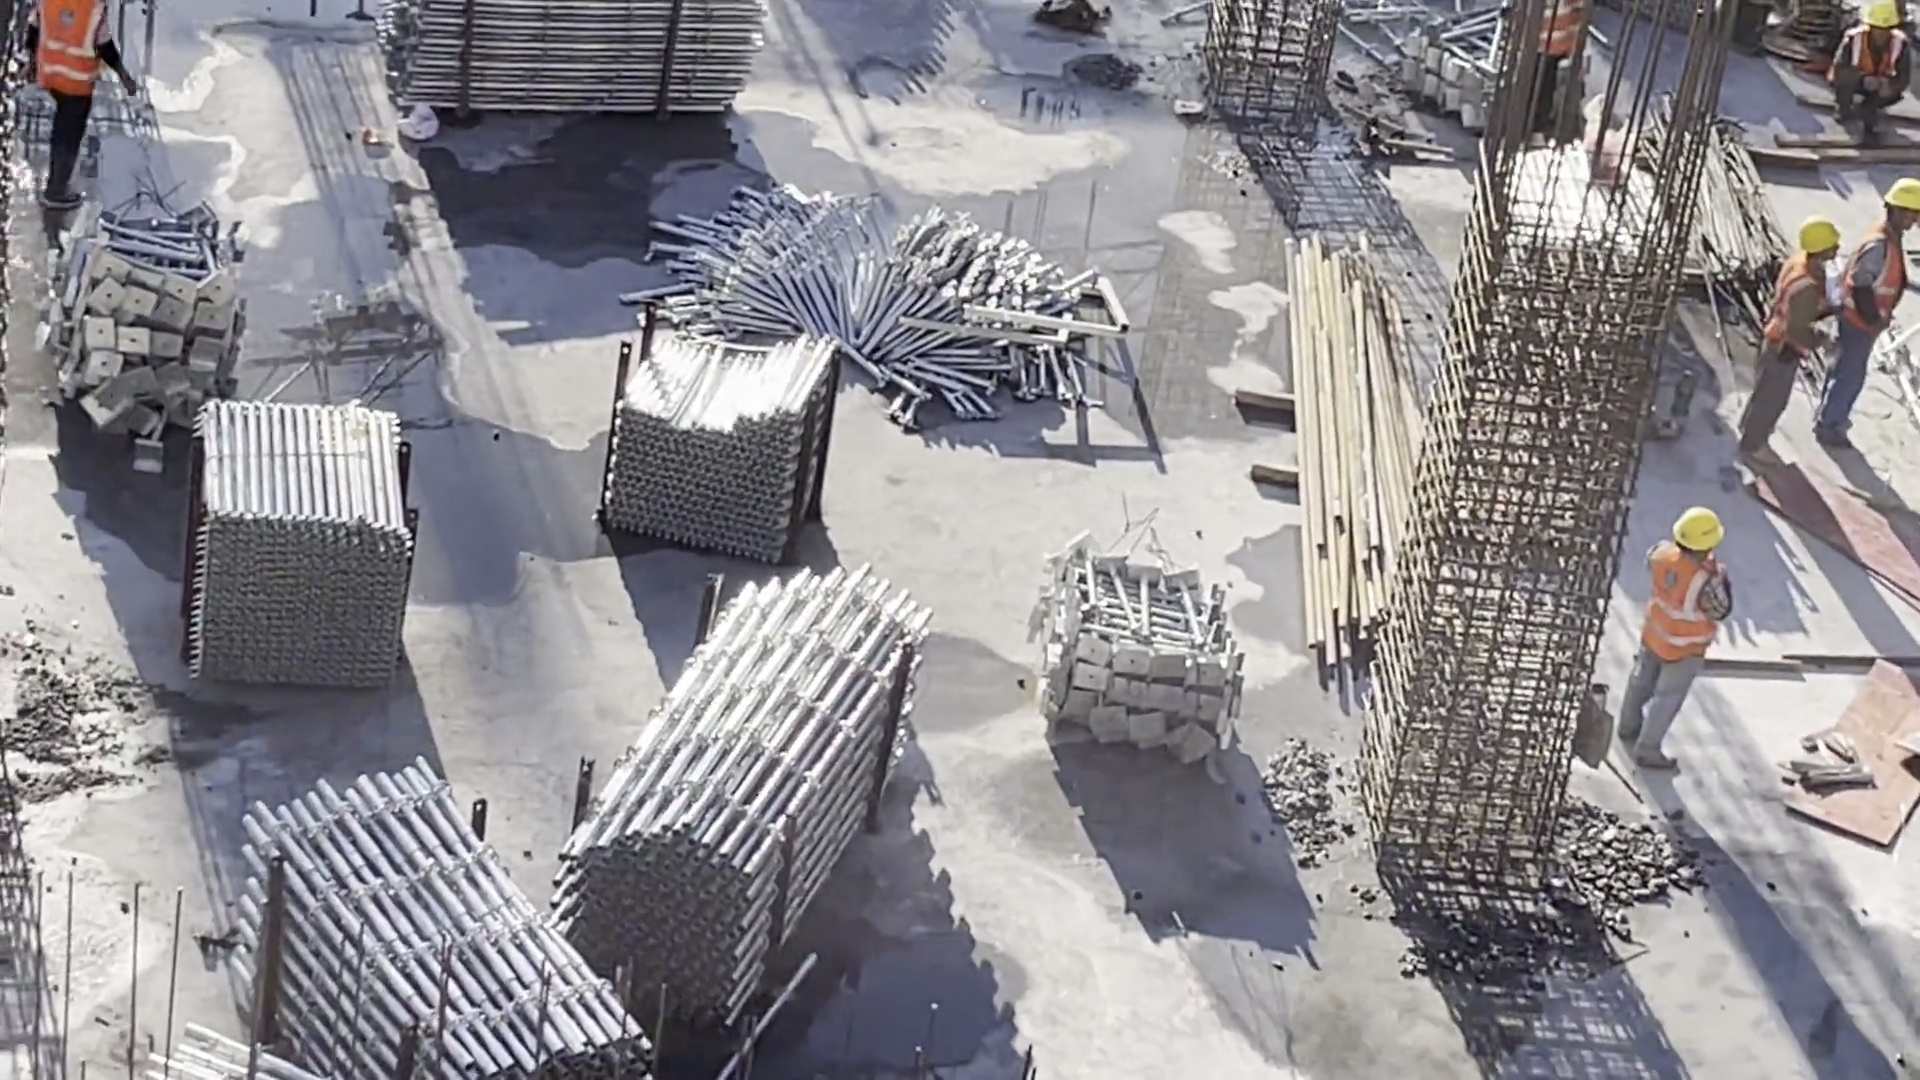helmet: (1681, 508, 1732, 553), (1871, 173, 1920, 217), (1852, 1, 1909, 31), (1801, 220, 1838, 254)
person: (1612, 502, 1730, 813), (1825, 164, 1920, 454), (1734, 213, 1817, 482), (16, 1, 108, 237), (1503, 1, 1612, 126), (1811, 12, 1915, 134)
vest: (1636, 550, 1723, 642), (31, 1, 106, 106), (1762, 254, 1830, 354), (1843, 235, 1899, 337), (1840, 24, 1901, 100), (1529, 1, 1586, 75)
